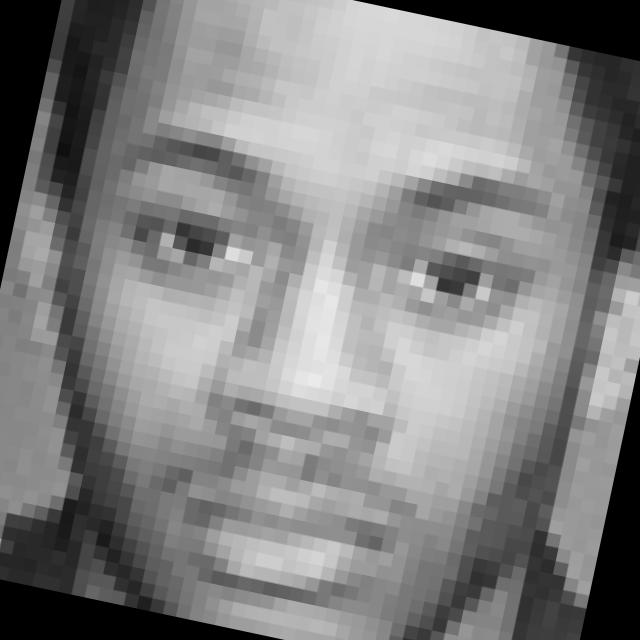neutral: (29, 78, 581, 640)
